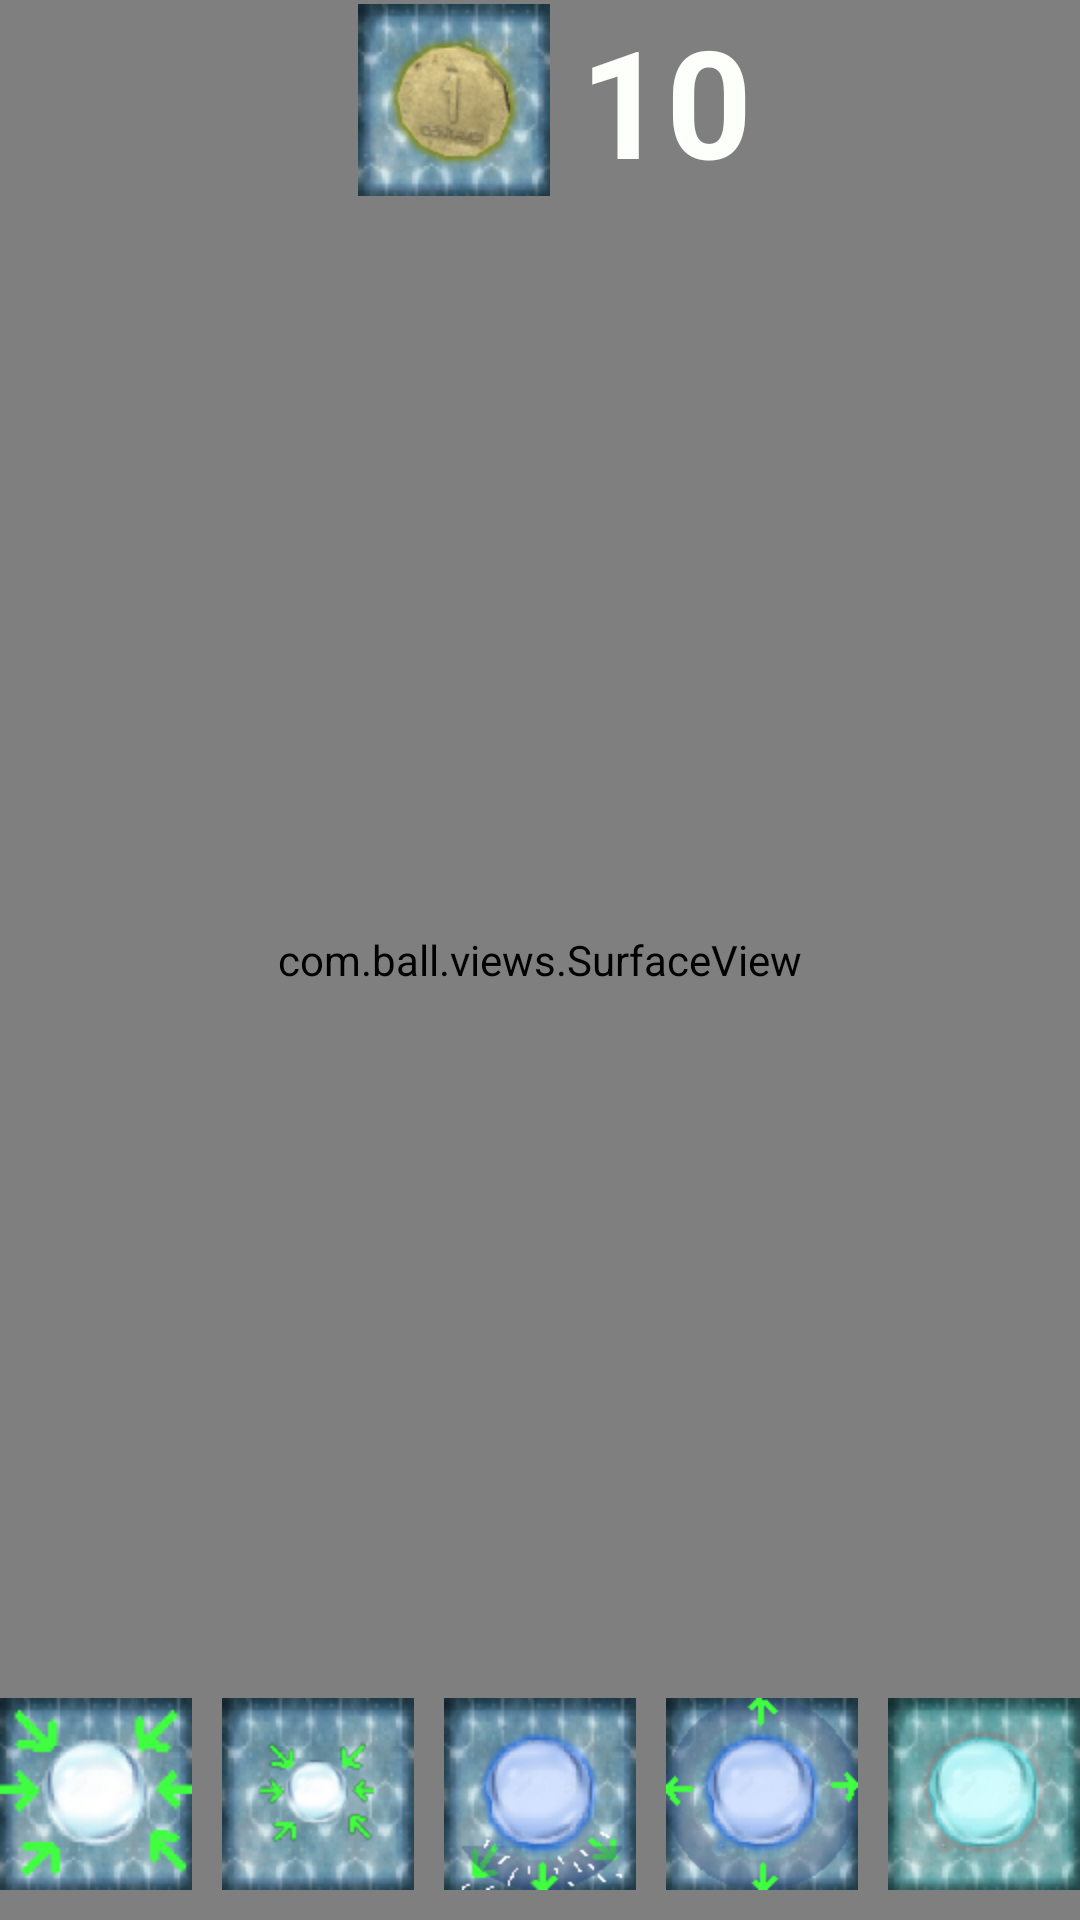

Screen size 1080×1920. Icon name, then its center in pixels as point (x, y):
ball jump: point (540, 1794)
ball micro: point (318, 1794)
ball mini: point (96, 1794)
ball repulsive: point (762, 1794)
moneda mini: point (454, 100)
